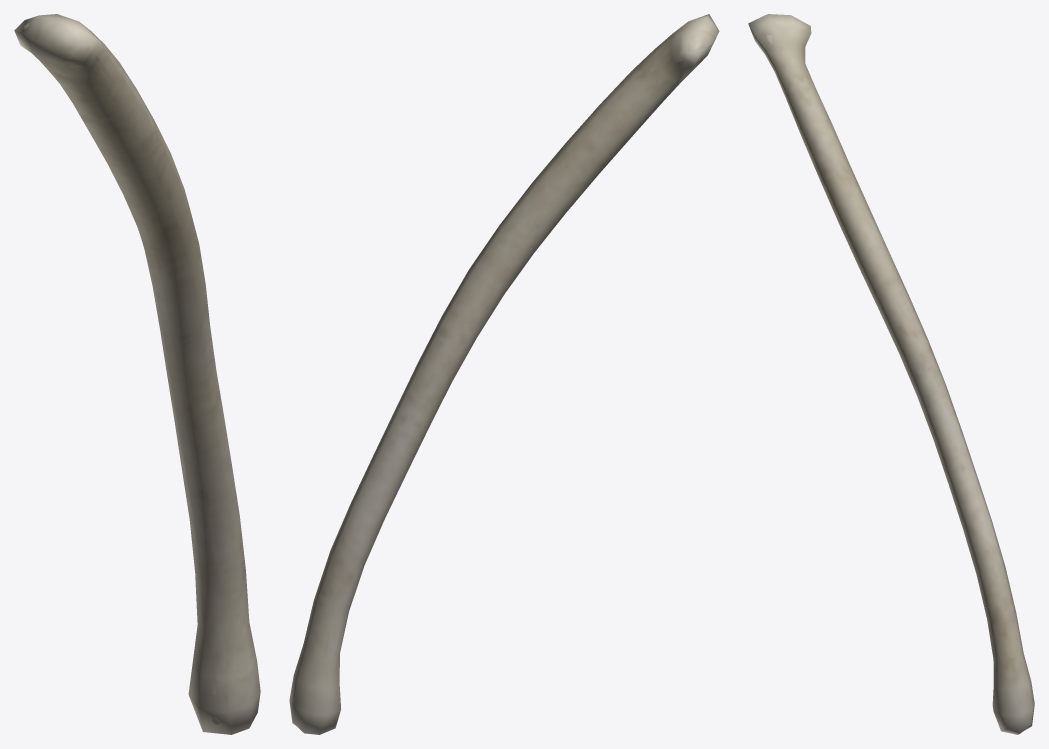
File: Rib L08.fbx
The picture shows the model from 3 angles, left to right: view 1: azimuth 30°, elevation 25°; view 2: azimuth 150°, elevation 25°; view 3: azimuth 270°, elevation 25°; orthographic projection. The views are drawn at different scales.
Visible parts, largest first — view 1: Rib L08 low, Rib L08; view 2: Rib L08 low, Rib L08; view 3: Rib L08 low, Rib L08.
Part boxes in pixels (x1,y1,x2,y2): Rib L08 low: [14, 14, 260, 734]; Rib L08: [23, 23, 254, 724]; Rib L08 low: [289, 14, 719, 734]; Rib L08: [300, 40, 701, 724]; Rib L08 low: [748, 14, 1034, 734]; Rib L08: [762, 35, 1026, 732].
Bounding box in the file's own units: 2.82 × 6.24 × 2.67.
1 material, 1 textured.
